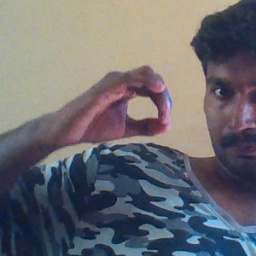O: (56, 62, 173, 148)
